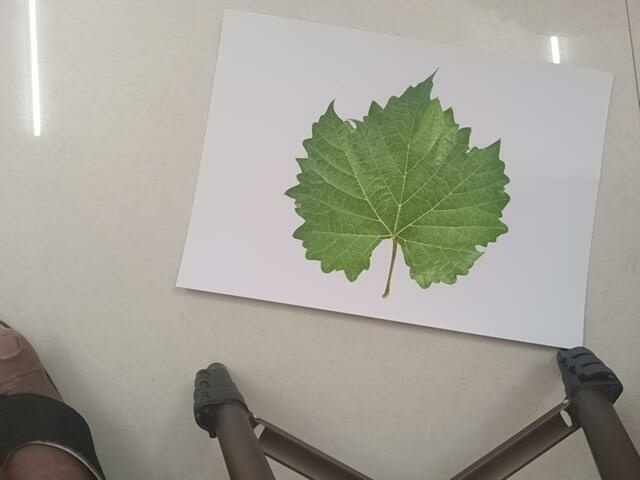Grape_Healthy: (284, 62, 514, 295)
